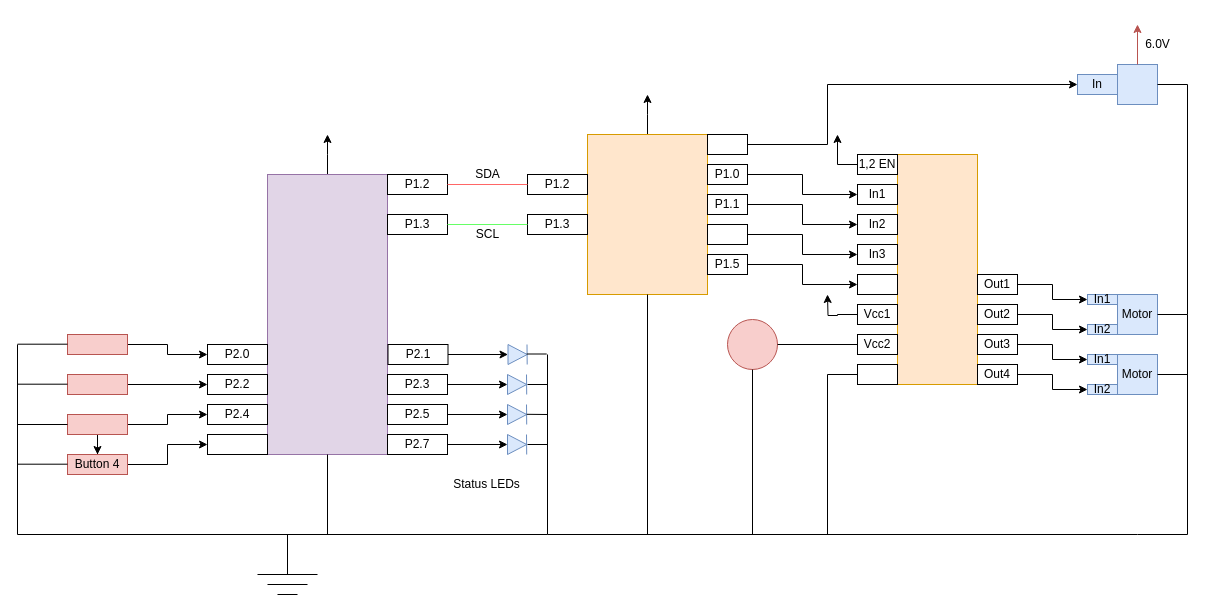
Some shapes in this 1206 by 613 pixel diagram are drawn without their labels. The shapes that lost their labels are listed below. From the top down, each one's centre as x and y in pixels, then its label:
pixel 1137 84: Servo
pixel 727 144: P1.6
pixel 647 214: MSP430-2310
pixel 727 234: P1.4
pixel 877 284: In4
pixel 937 269: L293D
pixel 327 314: MSP430-2355
pixel 97 344: Button 1
pixel 752 344: - 6.0V+
pixel 97 384: Button 2
pixel 877 374: GND
pixel 97 424: Button 3
pixel 237 444: P2.6
